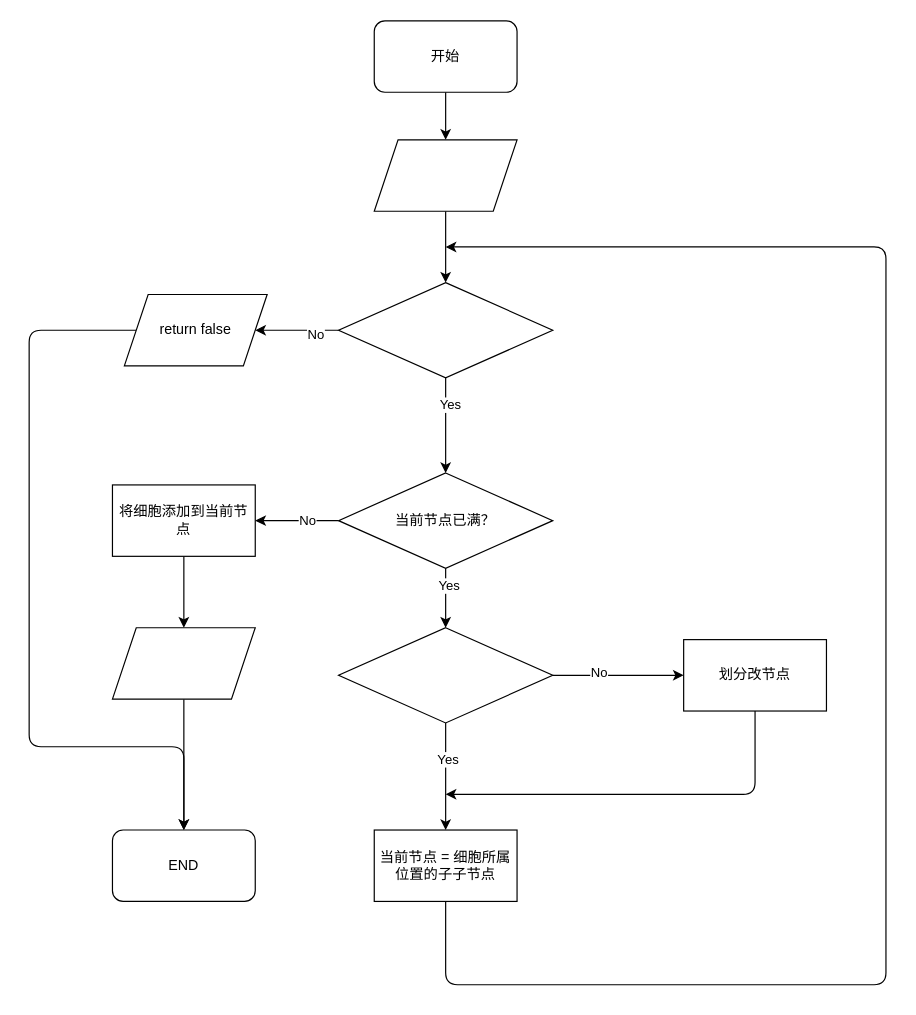
Image size: 916x1015. Some labels were removed from this diagram. The centre of each missing label's shape, as x and y in pixels:
"return true" belongs at [183,663].
"当前节点已被划分？" belongs at [445,675].
"细胞处于该区域？" belongs at [445,329].
"输入细胞" belongs at [445,175].
